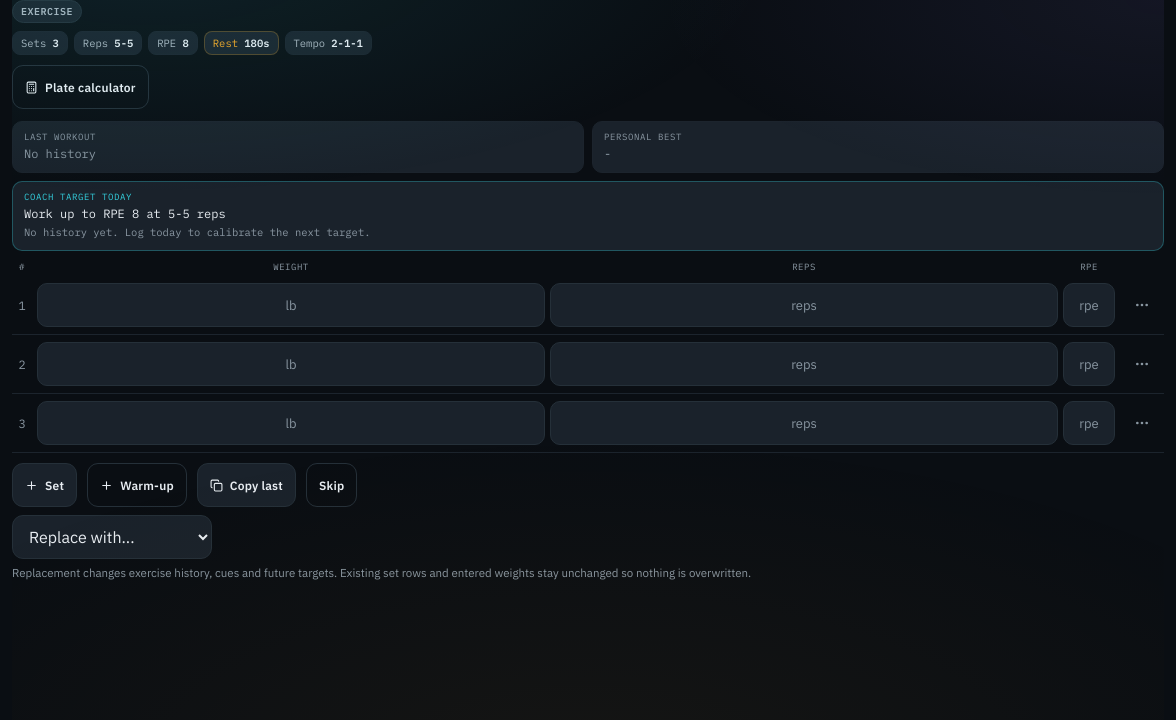
the plate calculator seeds the working weight and explains a blank bar
In the field named "Set 1 weight": point(291, 305) [37, 283, 545, 327], type "135"
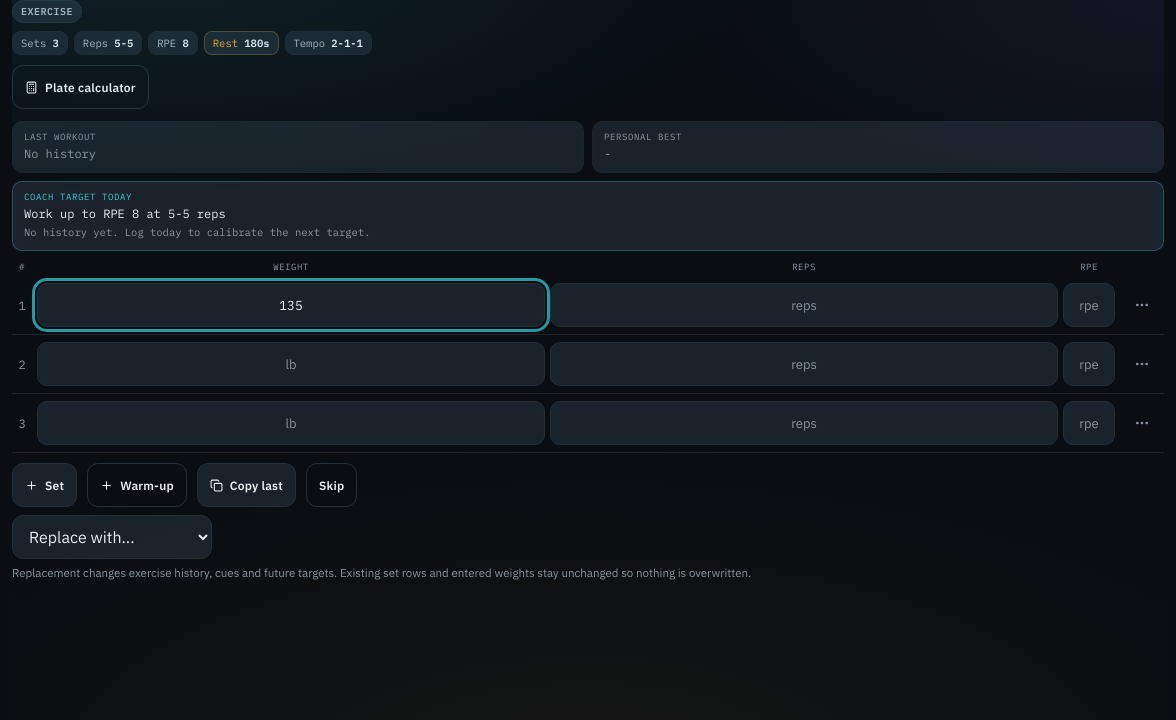
In the field named "Set 2 weight": point(291, 364) [37, 342, 545, 386], type "225"
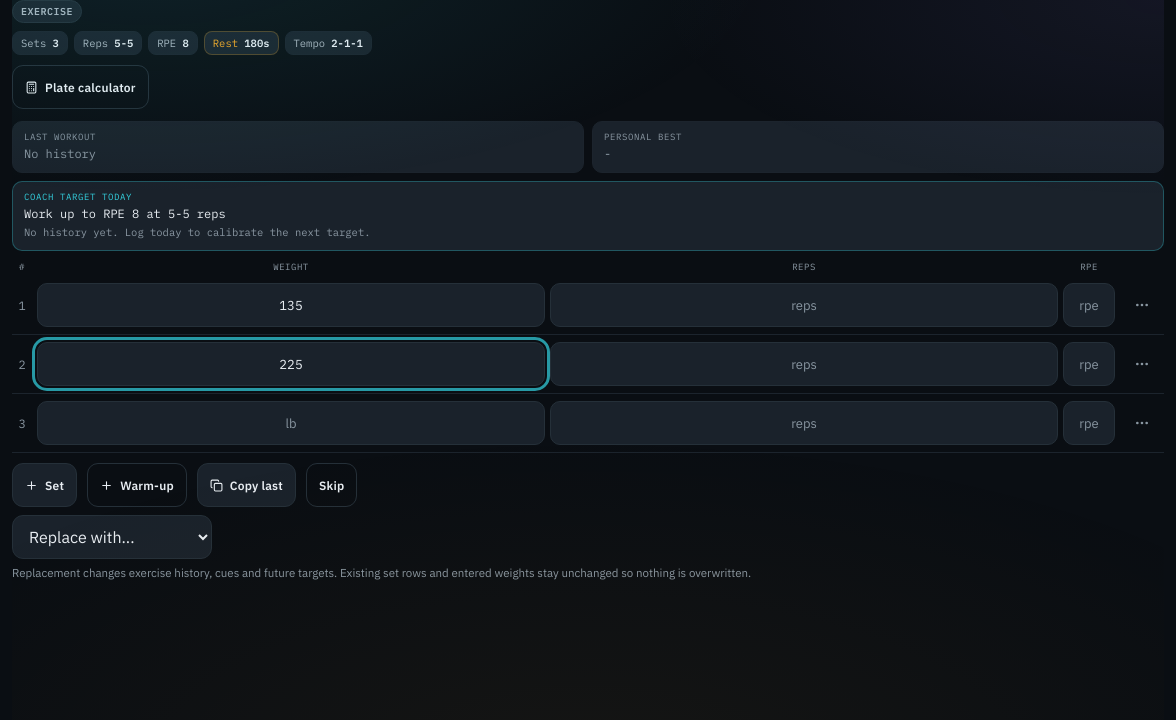
Click the button "Plate calculator": point(80, 87) [12, 65, 149, 109]
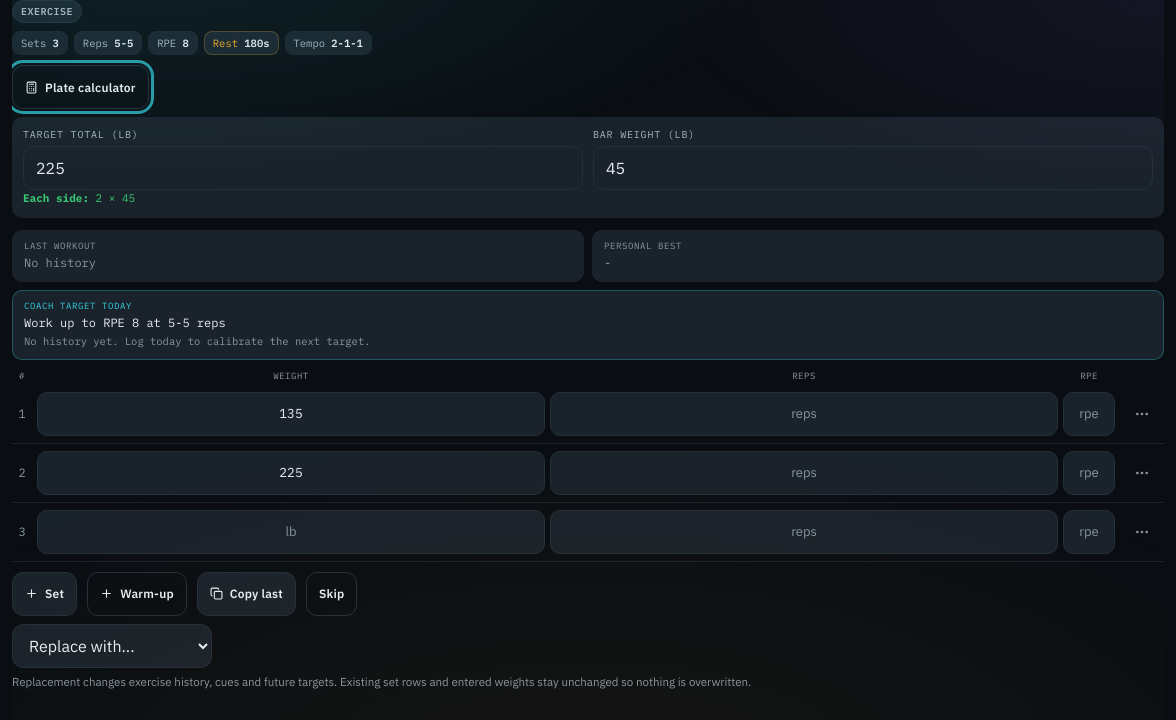
Expected: the field named "Plate calculator target" holds "225", [23, 146, 583, 190]
Expected: the element showing "Each side: 2 × 45" is shown, [23, 191, 135, 205]
Clear the field named "Bar weight": point(873, 168) [593, 146, 1153, 190]
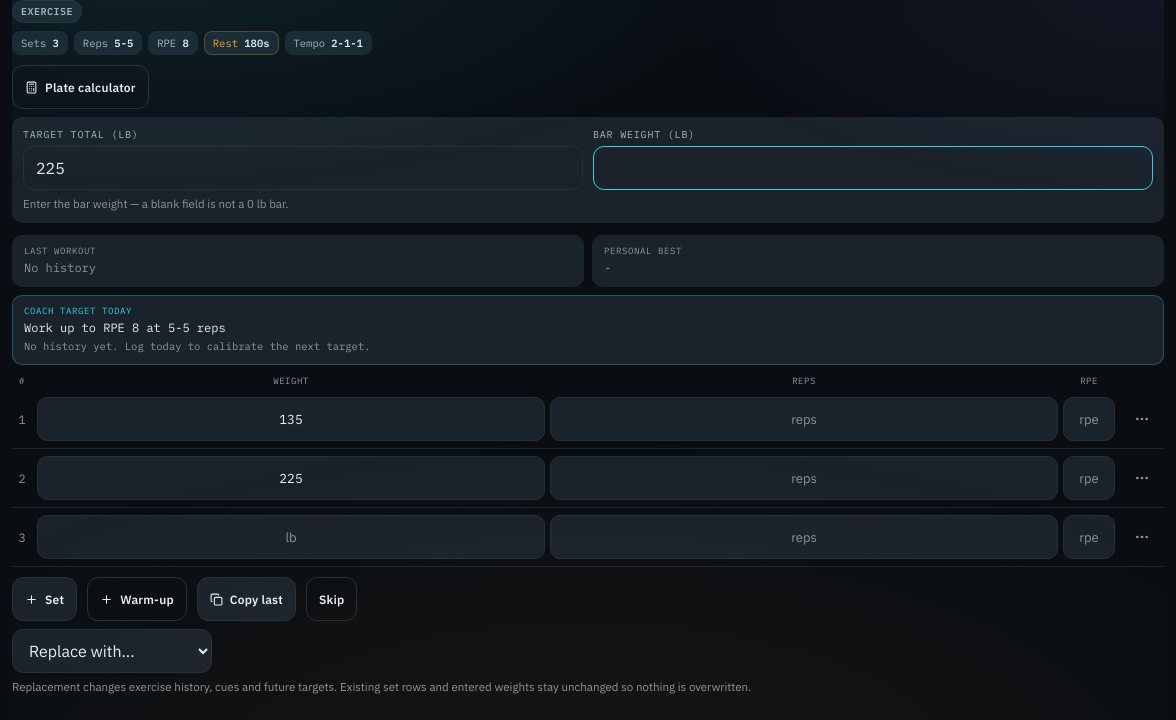
Expected: the text "Enter the bar weight — a blank field is not a 0 lb bar." is shown, [23, 196, 288, 211]
